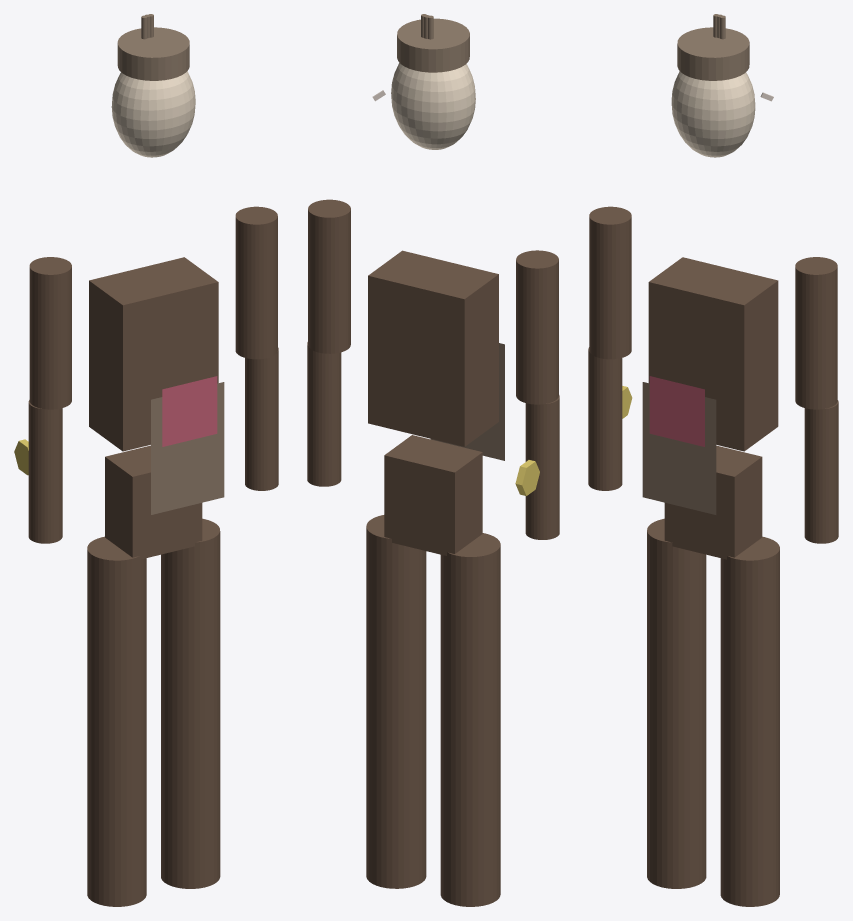
File: 沈墨渊_粗模.glb
The picture shows the model from 3 angles, left to right: view 1: azimuth 30°, elevation 25°; view 2: azimuth 150°, elevation 25°; view 3: azimuth 330°, elevation 25°; orthographic projection.
Parts seen in each view (by area): view 1: 沈墨渊_Leg.001, 沈墨渊_Leg, 沈墨渊_Torso, 沈墨渊_Waist, 沈墨渊_ArmUpper, 沈墨渊_ArmUpper.001, 沈墨渊_Cloak, 沈墨渊_Head, 沈墨渊_ArmLower.001, 沈墨渊_ArmLower, 沈墨渊_Crown, 沈墨渊_BackEmblem; view 2: 沈墨渊_Torso, 沈墨渊_Leg.001, 沈墨渊_Leg, 沈墨渊_Waist, 沈墨渊_ArmUpper.001, 沈墨渊_ArmUpper, 沈墨渊_Head, 沈墨渊_ArmLower, 沈墨渊_ArmLower.001, 沈墨渊_Crown, 沈墨渊_Cloak, 沈墨渊_SacredFireToken; view 3: 沈墨渊_Leg, 沈墨渊_Leg.001, 沈墨渊_Torso, 沈墨渊_Waist, 沈墨渊_ArmUpper.001, 沈墨渊_ArmUpper, 沈墨渊_Cloak, 沈墨渊_Head, 沈墨渊_ArmLower, 沈墨渊_ArmLower.001, 沈墨渊_Crown, 沈墨渊_BackEmblem.
Part boxes in pixels (x1,y1,x2,y2): 沈墨渊_Leg.001: (87,536,146,906); 沈墨渊_Leg: (161,518,220,888); 沈墨渊_Torso: (89,257,218,451); 沈墨渊_Waist: (105,445,202,559); 沈墨渊_ArmUpper: (235,206,277,359); 沈墨渊_ArmUpper.001: (29,257,71,409); 沈墨渊_Cloak: (151,382,224,514); 沈墨渊_Head: (111,71,195,157); 沈墨渊_ArmLower.001: (28,400,62,543); 沈墨渊_ArmLower: (245,347,278,490); 沈墨渊_Crown: (117,27,189,80); 沈墨渊_BackEmblem: (162,376,217,446); 沈墨渊_Torso: (368,250,498,446); 沈墨渊_Leg.001: (440,533,500,906); 沈墨渊_Leg: (366,515,426,888); 沈墨渊_Waist: (384,435,482,555); 沈墨渊_ArmUpper.001: (516,250,558,404); 沈墨渊_ArmUpper: (308,199,350,353); 沈墨渊_Head: (391,63,475,149); 沈墨渊_ArmLower: (307,342,341,486); 沈墨渊_ArmLower.001: (525,395,559,539); 沈墨渊_Crown: (397,18,469,72); 沈墨渊_Cloak: (430,343,504,460); 沈墨渊_SacredFireToken: (515,460,539,495); 沈墨渊_Leg: (720,536,779,906); 沈墨渊_Leg.001: (647,518,706,888); 沈墨渊_Torso: (648,257,778,451); 沈墨渊_Waist: (664,445,762,559); 沈墨渊_ArmUpper.001: (589,206,631,359); 沈墨渊_ArmUpper: (795,257,837,409); 沈墨渊_Cloak: (642,382,716,514); 沈墨渊_Head: (671,71,755,157); 沈墨渊_ArmLower: (804,400,838,543); 沈墨渊_ArmLower.001: (588,347,622,490); 沈墨渊_Crown: (677,27,749,80); 沈墨渊_BackEmblem: (649,376,704,446).
Bounding box in the file's own units: 0.668 × 2.25 × 0.292.
